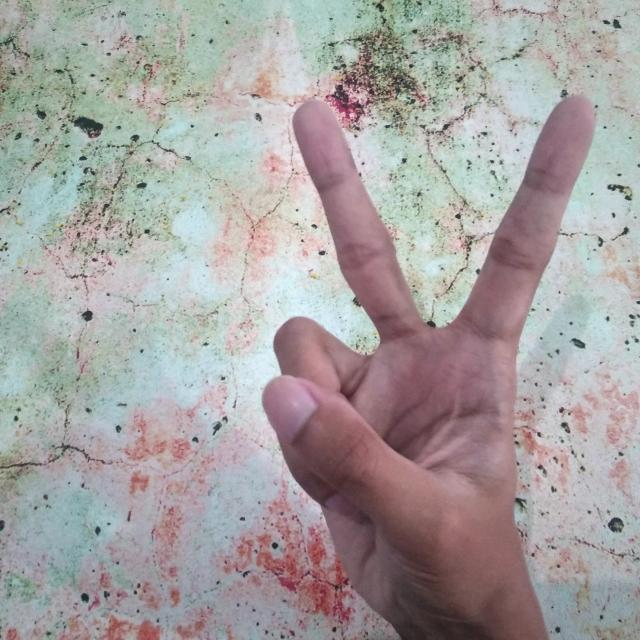V: (248, 87, 604, 640)
